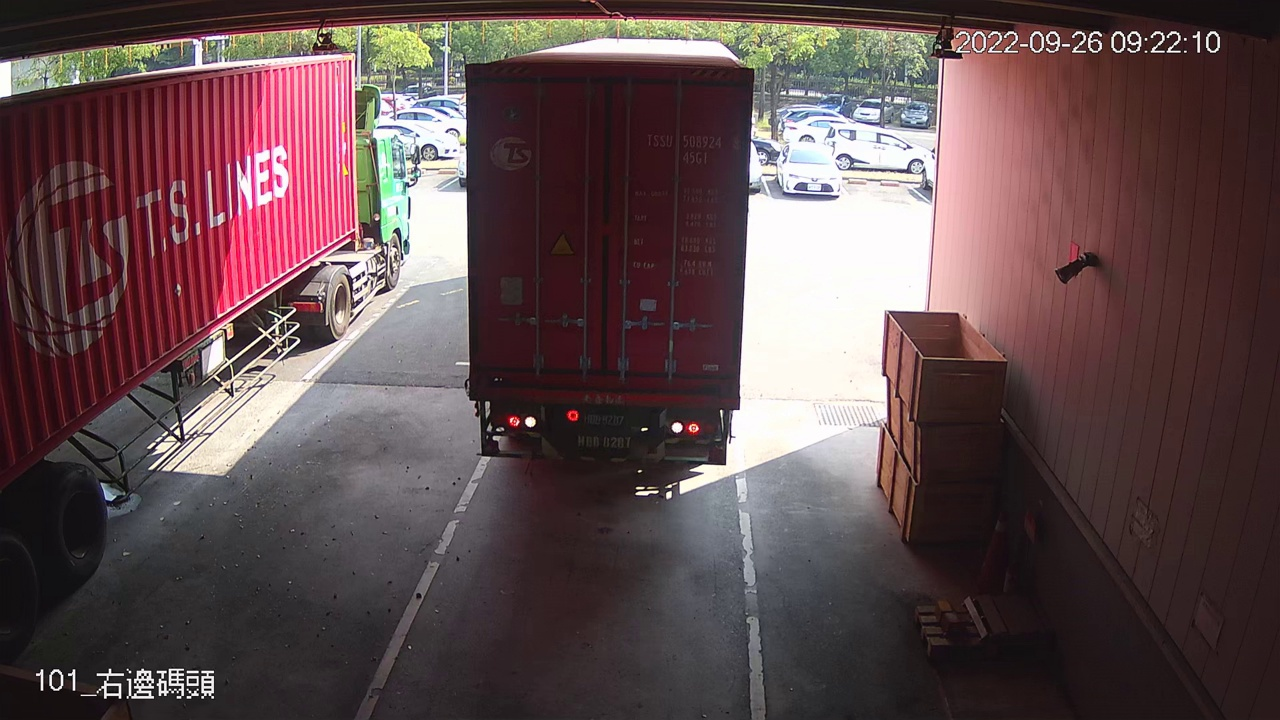container: (639, 126, 748, 170)
